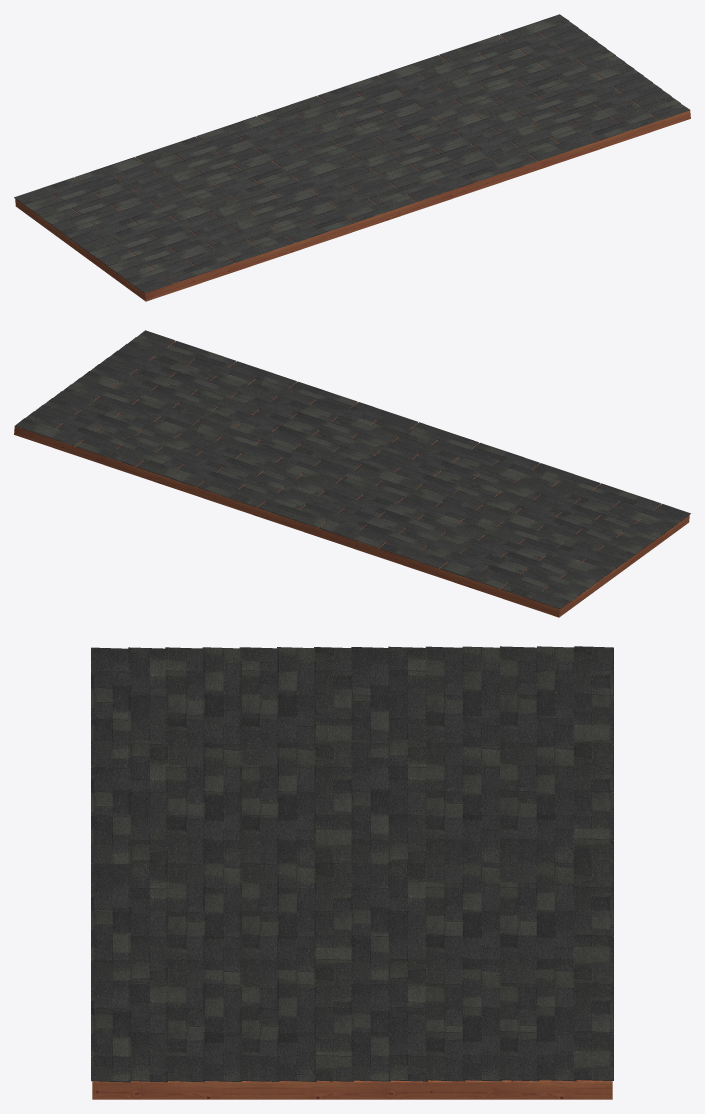
The model's file is Dune.obj.
The picture shows the model from 3 angles, top to bottom: view 1: azimuth 30°, elevation 25°; view 2: azimuth 150°, elevation 25°; view 3: azimuth 270°, elevation 25°; orthographic projection. The views are drawn at different scales.
Parts seen in each view (by area): view 1: shingles, roof; view 2: shingles, roof; view 3: shingles, roof.
Part boxes in pixels (left/top/right/bottom): shingles: left=14, top=14, right=689, bottom=293; roof: left=15, top=31, right=690, bottom=301; shingles: left=15, top=330, right=690, bottom=609; roof: left=14, top=341, right=689, bottom=617; shingles: left=91, top=646, right=613, bottom=1082; roof: left=92, top=1080, right=612, bottom=1099.
Size of the model in its own units: 204 by 21.32 by 84.41.
2 materials, 2 textured.
